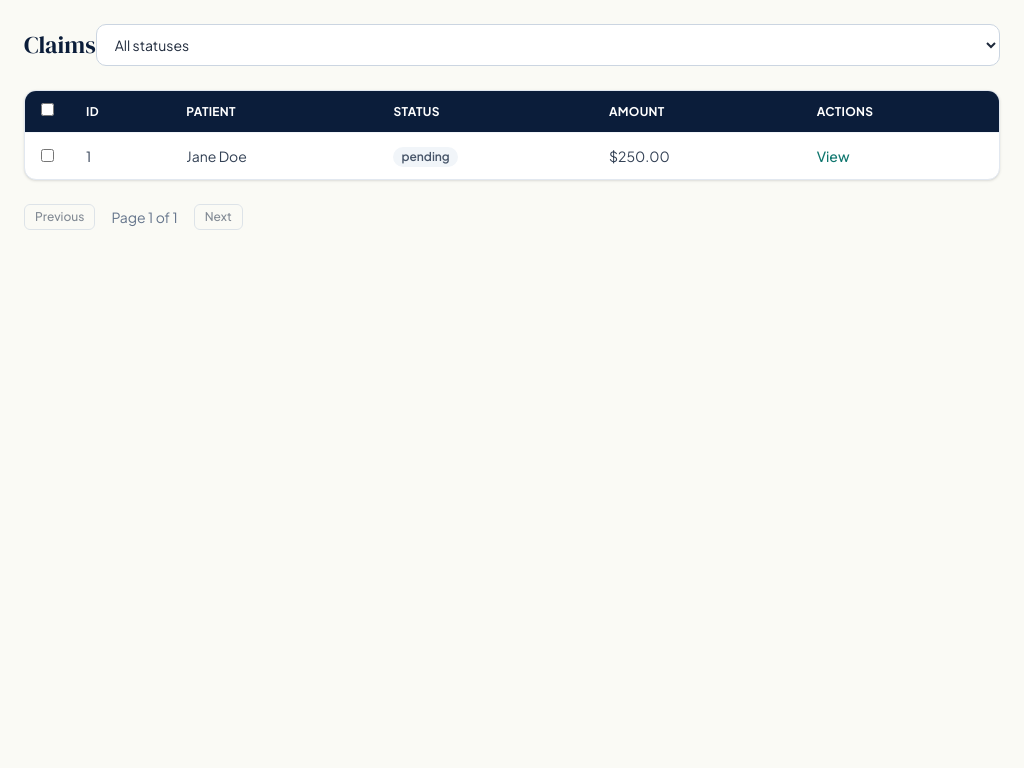
Test: ClaimsList › permission gating › disables the confirm Submit button with a permission tooltip when the user lacks billing:batch
Expected: the text "Jane Doe" is shown, [170,132,377,179]
Click the checkbox named "Select claim 1" at (48, 156), box [41,149,54,162]
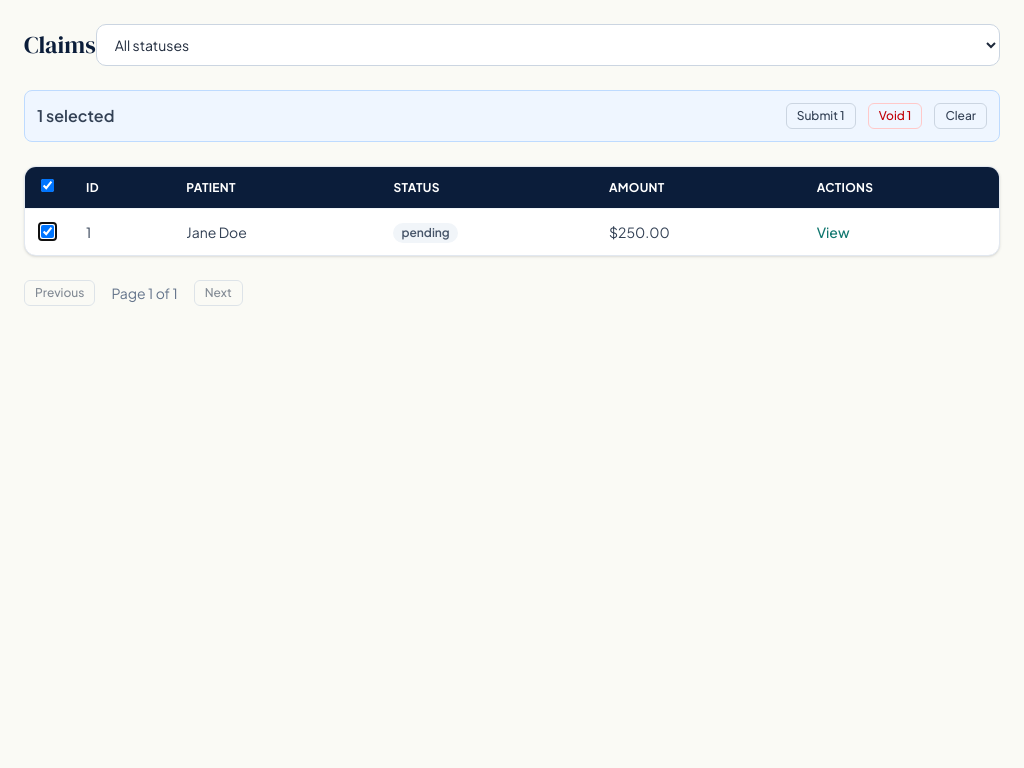
Click the button "Submit 1" at (821, 116), box [786,103,856,129]
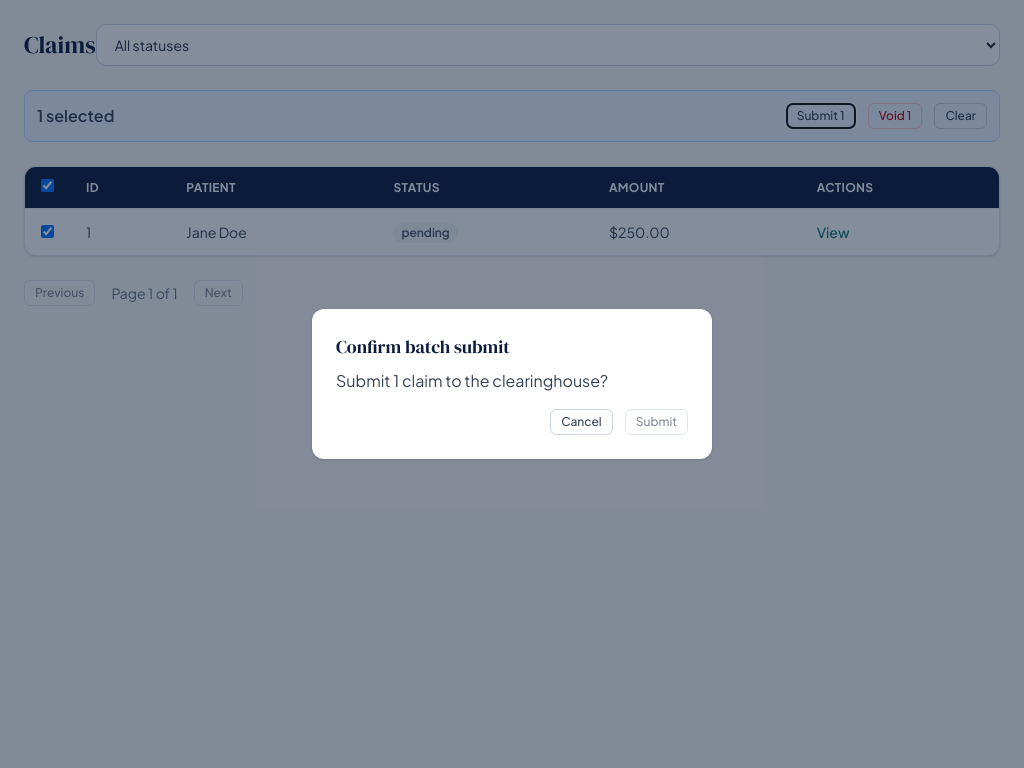
Expected: the button "Submit" is disabled, [625,409,688,435]
